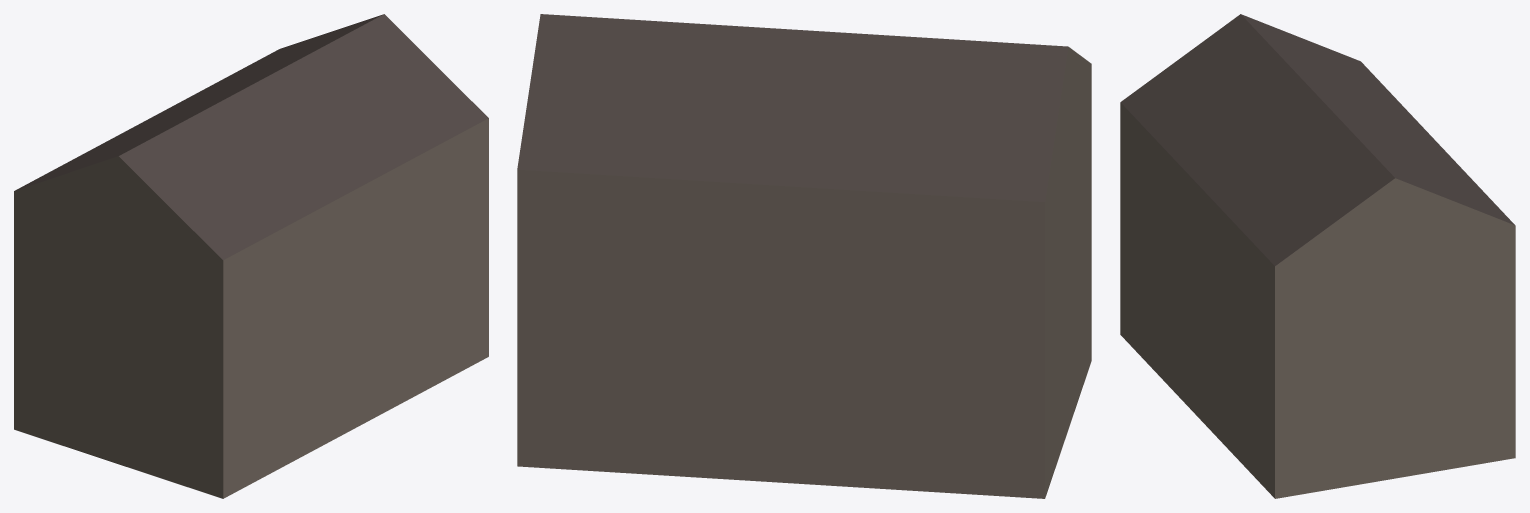
3 views of the same model, side by side, from view 1: azimuth 30°, elevation 25°; view 2: azimuth 150°, elevation 25°; view 3: azimuth 270°, elevation 25° (orthographic). The views are drawn at different scales.
Parts seen in each view (by area): view 1: HP-w408450697; view 2: HP-w408450697; view 3: HP-w408450697.
Boxes of the visible parts, bbox=[...] form: HP-w408450697: bbox=[14, 14, 488, 498]; HP-w408450697: bbox=[517, 14, 1091, 498]; HP-w408450697: bbox=[1120, 14, 1515, 498].
Size of the model in its own units: 11.34 by 7.75 by 9.24.
